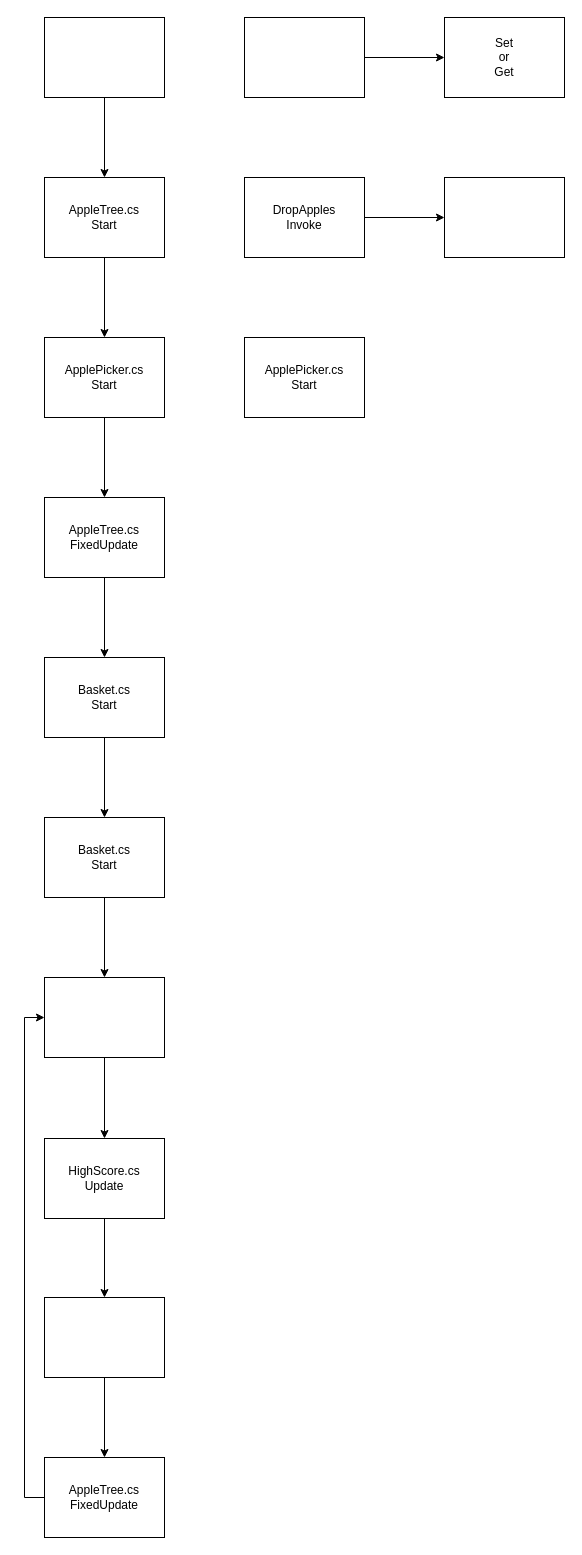
The diagram is 582 pixels wide and 1555 high, and some of its shapes have lost their labels. Here are the shapes that lost their labels. From the top down, the centre of each, then its label:
At point 104,57: "HighScore.cs Awake".
At point 304,57: "PlayerPrefs HasKey HighScore".
At point 504,217: "DropApples re Invoke".
At point 104,1017: "AppleTree.cs Update".
At point 104,1337: "Basket.cs Update".
